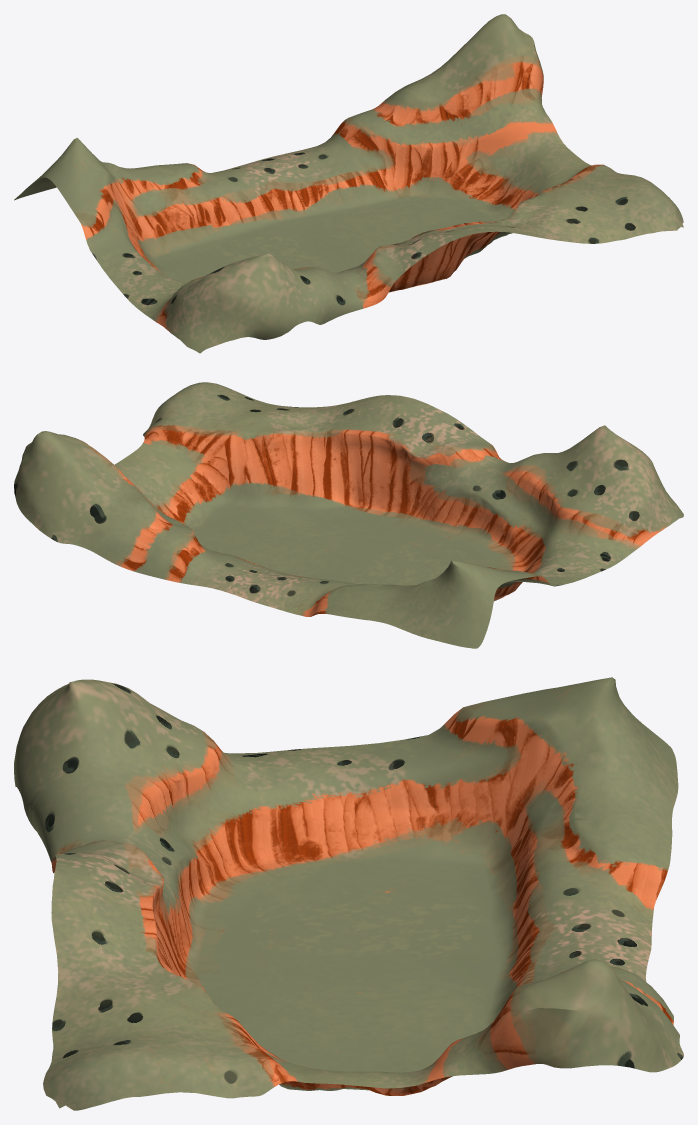
Rendered from BackgroundTerrain.glb.
3 renders of one model, top to bottom at view 1: azimuth 30°, elevation 25°; view 2: azimuth 150°, elevation 25°; view 3: azimuth 270°, elevation 25°, orthographic. The views are drawn at different scales.
Visible parts, largest first — view 1: Terrain; view 2: Terrain; view 3: Terrain.
Boxes of the visible parts, x1,y1,x2,y2 form: Terrain: (14,14,683,353); Terrain: (14,382,683,648); Terrain: (14,677,683,1110).
Bounding box in the file's own units: 2.01 × 0.4619 × 1.45.
Materials: 1 (1 with a texture image).
